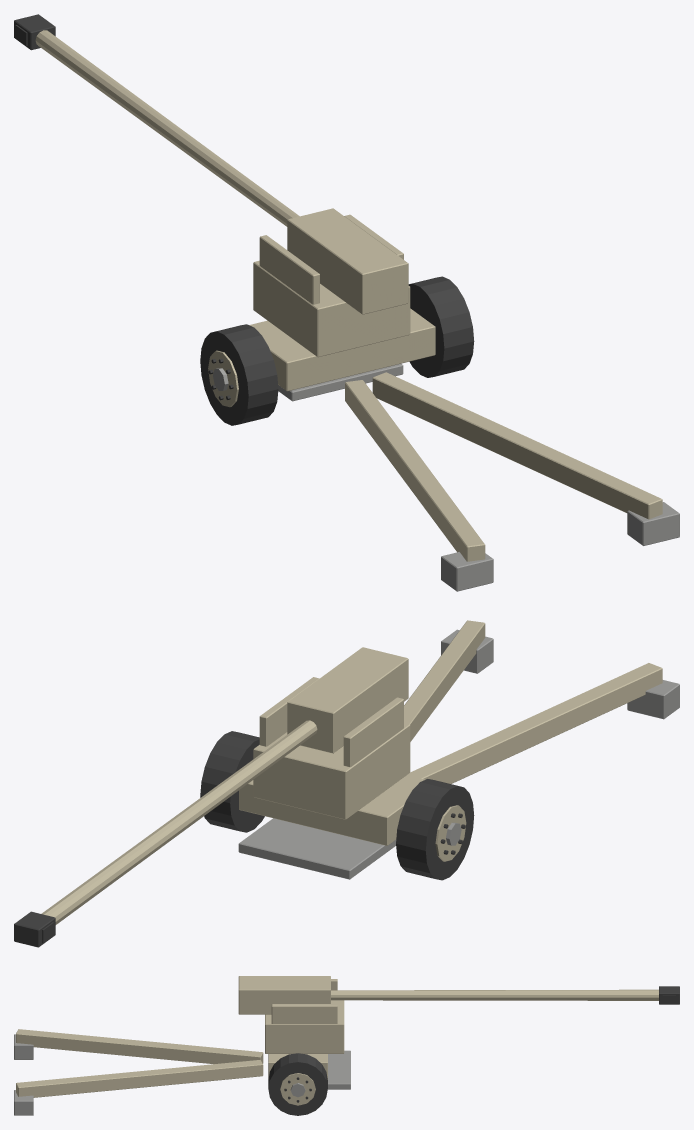
File: rus_tow_mstab.glb
3 renders of one model, top to bottom at view 1: azimuth 30°, elevation 25°; view 2: azimuth 150°, elevation 25°; view 3: azimuth 270°, elevation 25°, orthographic. The views are drawn at different scales.
Visible parts, largest first — view 1: body, barrel, turret, wheel_0, wheel_1; view 2: body, barrel, turret, wheel_0, wheel_1; view 3: body, barrel, turret, wheel_1.
Boxes of the visible parts, x1,y1,x2,y2 form: body: [249, 308, 679, 591]; barrel: [14, 14, 408, 314]; turret: [253, 214, 410, 357]; wheel_0: [200, 324, 278, 425]; wheel_1: [408, 276, 474, 377]; body: [238, 620, 679, 879]; barrel: [14, 647, 408, 947]; turret: [253, 677, 410, 819]; wheel_0: [396, 779, 474, 880]; wheel_1: [200, 731, 264, 832]; body: [14, 1029, 350, 1115]; barrel: [238, 976, 679, 1014]; turret: [265, 979, 344, 1053]; wheel_1: [268, 1053, 327, 1115].
Bounding box in the file's own units: 2.54 × 1.67 × 10.08.
